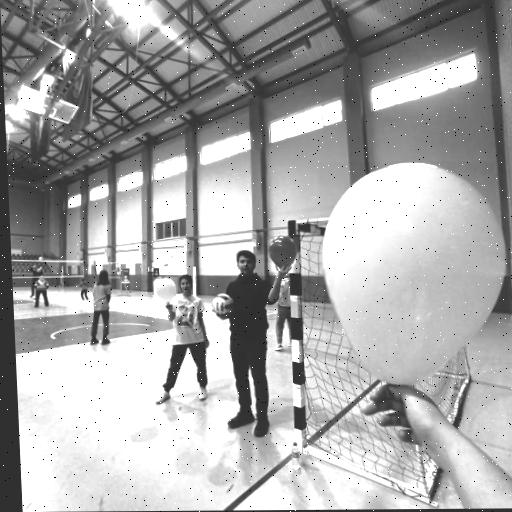balloon: (318, 161, 512, 383), (267, 236, 300, 273), (153, 277, 179, 304)
